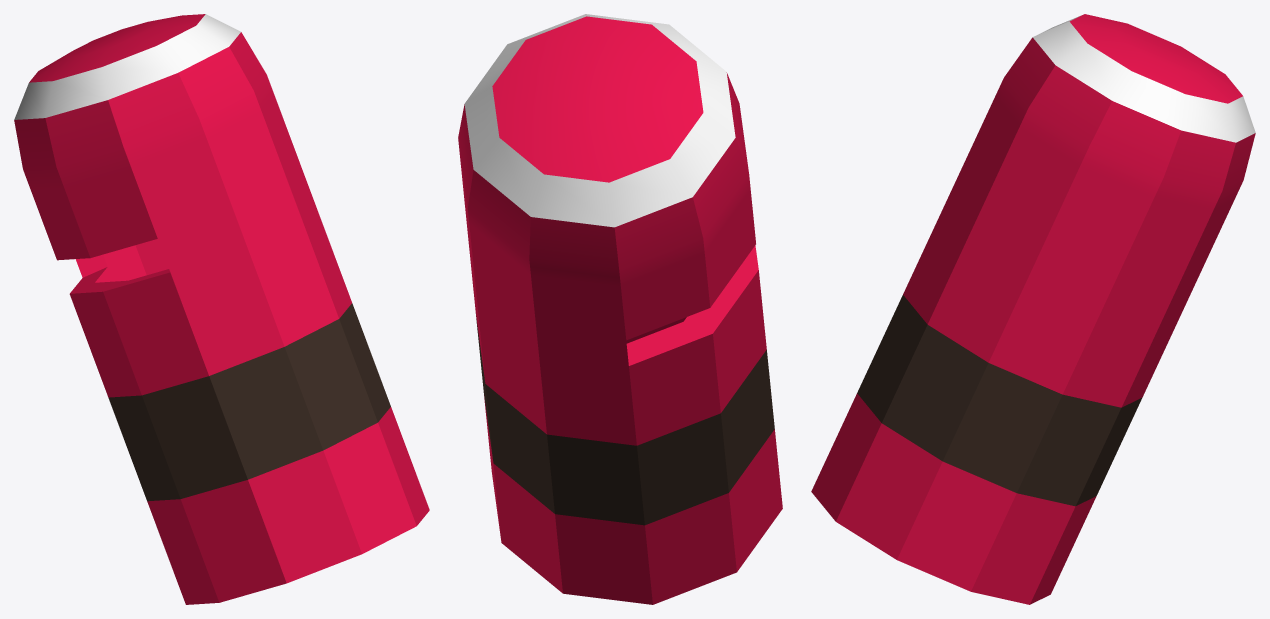
3 views of the same model, side by side, from view 1: azimuth 30°, elevation 25°; view 2: azimuth 150°, elevation 25°; view 3: azimuth 270°, elevation 25° (orthographic). The views are drawn at different scales.
Visible parts, largest first — view 1: Latter_Box_3; view 2: Latter_Box_3; view 3: Latter_Box_3.
Part boxes in pixels (bbox=[...]): Latter_Box_3: bbox=[14, 14, 429, 604]; Latter_Box_3: bbox=[458, 14, 782, 604]; Latter_Box_3: bbox=[811, 14, 1255, 604].
Size of the model in its own units: 281 by 506 by 381.
